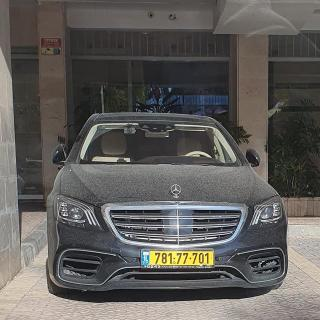LicensePlate: (150, 252, 213, 265)
